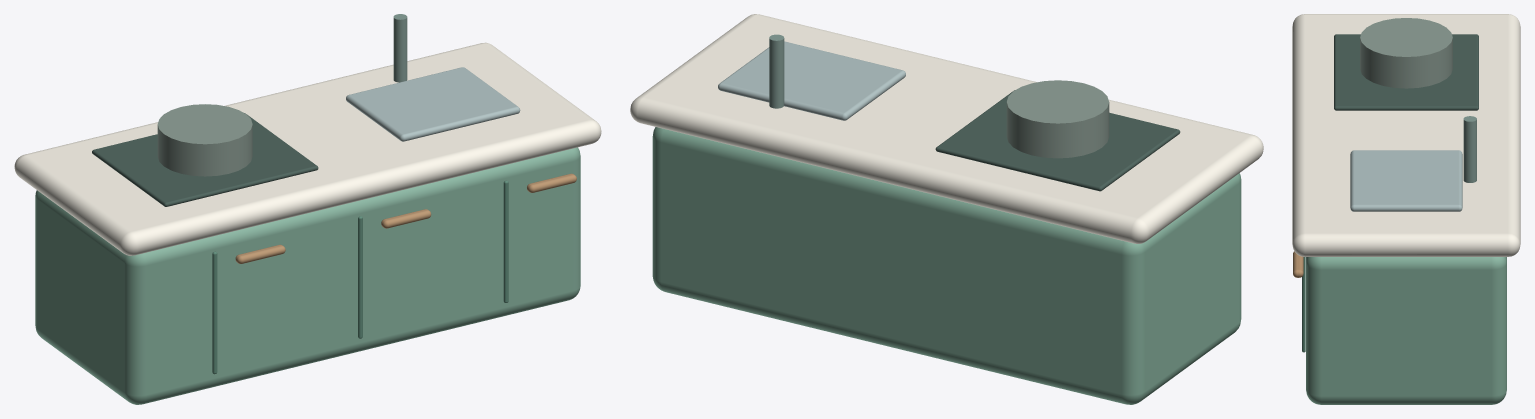
File: kitchen.glb
The picture shows the model from 3 angles, left to right: view 1: azimuth 30°, elevation 25°; view 2: azimuth 150°, elevation 25°; view 3: azimuth 270°, elevation 25°; orthographic projection. The views are drawn at different scales.
Visible parts, largest first — view 1: kitchen; view 2: kitchen; view 3: kitchen.
Boxes of the visible parts, x1,y1,x2,y2 form: kitchen: (14, 14, 601, 404); kitchen: (630, 14, 1263, 404); kitchen: (1292, 14, 1520, 404).
Size of the model in its own units: 2.8 by 1.38 by 1.18.
